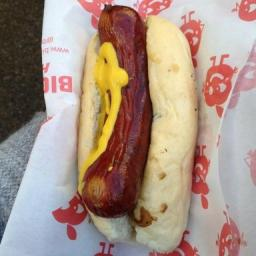hotdog: (95, 4, 149, 206), (81, 165, 136, 232)
